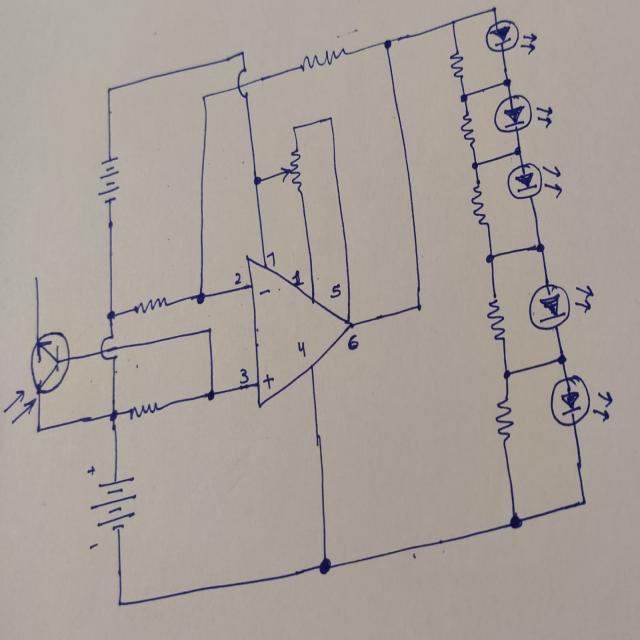crossover: (98, 334, 119, 362), (235, 63, 250, 99)
diode: (550, 374, 612, 427), (528, 282, 593, 332), (493, 91, 553, 133), (506, 161, 562, 200), (485, 17, 538, 53)
junction: (314, 552, 334, 578), (507, 510, 525, 530), (531, 237, 548, 257), (193, 288, 209, 308), (104, 406, 121, 424), (203, 385, 219, 403), (380, 35, 395, 51), (500, 362, 512, 382), (556, 349, 568, 368), (511, 142, 525, 158), (483, 248, 497, 264), (203, 323, 216, 340), (104, 306, 117, 322), (501, 73, 513, 90), (114, 595, 126, 612), (578, 492, 590, 509), (412, 298, 424, 315), (458, 88, 468, 105), (34, 421, 45, 436), (470, 159, 480, 173), (198, 92, 208, 105), (448, 16, 458, 29), (489, 3, 499, 16), (252, 174, 262, 187), (326, 112, 335, 125), (238, 47, 246, 60), (290, 123, 298, 135), (105, 84, 113, 95)
resistor: (275, 145, 306, 196), (298, 45, 348, 72), (495, 386, 513, 446), (468, 180, 487, 225), (487, 295, 505, 342), (132, 296, 168, 314), (459, 109, 476, 147), (127, 400, 158, 420), (448, 46, 464, 78)
source: (84, 463, 136, 549), (98, 156, 120, 206)
terminal: (32, 271, 42, 288)
text: (261, 372, 275, 389), (291, 268, 304, 286), (238, 366, 250, 384), (347, 332, 359, 350), (266, 250, 278, 267), (296, 339, 306, 357), (330, 282, 340, 298), (234, 270, 242, 286), (258, 288, 271, 296)
transistor: (2, 330, 70, 422)
